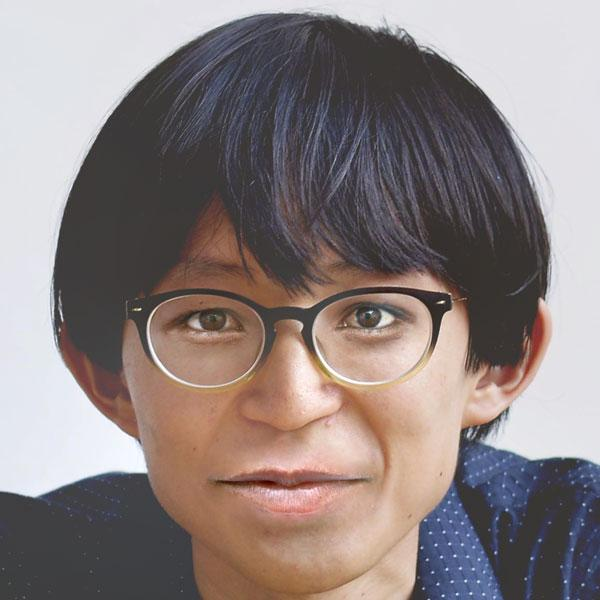Eyes: (166, 296, 250, 348), (331, 296, 412, 344)
